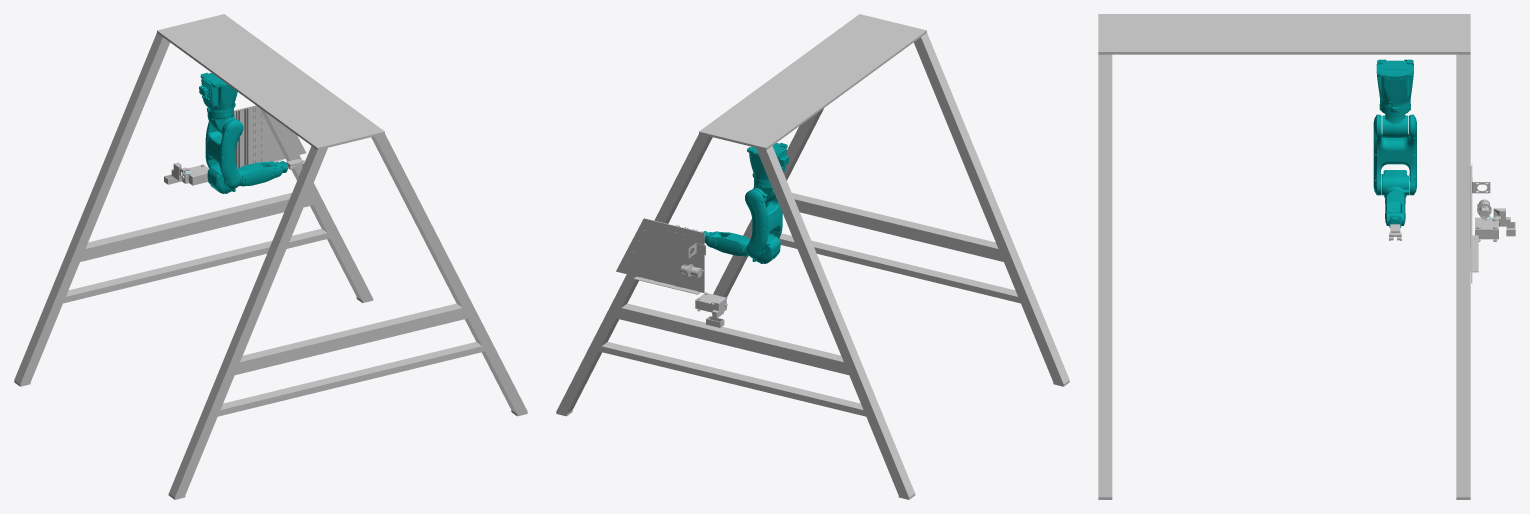
Rendered from drilltap.glb.
3 views of the same model, side by side, from view 1: azimuth 30°, elevation 25°; view 2: azimuth 150°, elevation 25°; view 3: azimuth 270°, elevation 25° (orthographic). The views are drawn at different scales.
Visible parts, largest first — view 1: Robot Mount Frame, fixture, 00_GP8_L_AXIS_ASM, 00_GP8_BASE_ASM, 00_GP8_R_AXIS_ASM; view 2: Robot Mount Frame, Component1, 00_GP8_L_AXIS_ASM, 00_GP8_R_AXIS_ASM, 00_GP8_BASE_ASM; view 3: Robot Mount Frame, 00_GP8_L_AXIS_ASM, 00_GP8_BASE_ASM, 00_GP8_S_AXIS_ASM, 00_GP8_U_AXIS_ASM, 00_GP8_R_AXIS_ASM.
Boxes of the visible parts, x1=… form: Robot Mount Frame: x1=14, y1=14, x2=527, y2=499; fixture: x1=234, y1=105, x2=306, y2=168; 00_GP8_L_AXIS_ASM: x1=205, y1=119, x2=243, y2=188; 00_GP8_BASE_ASM: x1=199, y1=72, x2=237, y2=111; 00_GP8_R_AXIS_ASM: x1=237, y1=161, x2=282, y2=186; Robot Mount Frame: x1=556, y1=14, x2=1069, y2=499; Component1: x1=616, y1=218, x2=704, y2=292; 00_GP8_L_AXIS_ASM: x1=745, y1=189, x2=782, y2=258; 00_GP8_R_AXIS_ASM: x1=705, y1=231, x2=750, y2=256; 00_GP8_BASE_ASM: x1=747, y1=143, x2=789, y2=181; Robot Mount Frame: x1=1098, y1=14, x2=1470, y2=499; 00_GP8_L_AXIS_ASM: x1=1373, y1=114, x2=1416, y2=195; 00_GP8_BASE_ASM: x1=1376, y1=59, x2=1413, y2=107; 00_GP8_S_AXIS_ASM: x1=1379, y1=102, x2=1410, y2=137; 00_GP8_U_AXIS_ASM: x1=1382, y1=170, x2=1408, y2=197; 00_GP8_R_AXIS_ASM: x1=1385, y1=189, x2=1405, y2=225.
Bounding box in the file's own units: 2.51 × 2.16 × 2.22.
